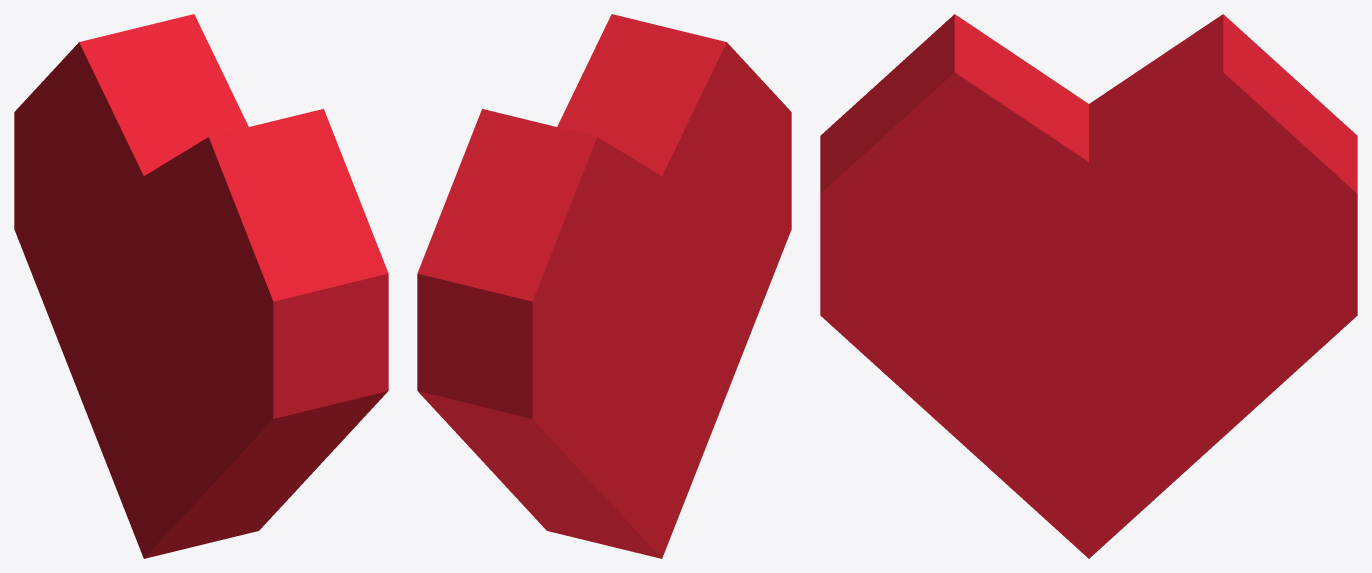
Rendered from ValentinesDayHeart.fbx.
The picture shows the model from 3 angles, left to right: view 1: azimuth 30°, elevation 25°; view 2: azimuth 150°, elevation 25°; view 3: azimuth 270°, elevation 25°; orthographic projection. The views are drawn at different scales.
Visible parts, largest first — view 1: Cube; view 2: Cube; view 3: Cube.
Part boxes in pixels (<box>): Cube: <box>14,14,388,558</box>; Cube: <box>417,14,791,558</box>; Cube: <box>820,14,1357,558</box>.
Size of the model in its own units: 51.35 by 200 by 200.
